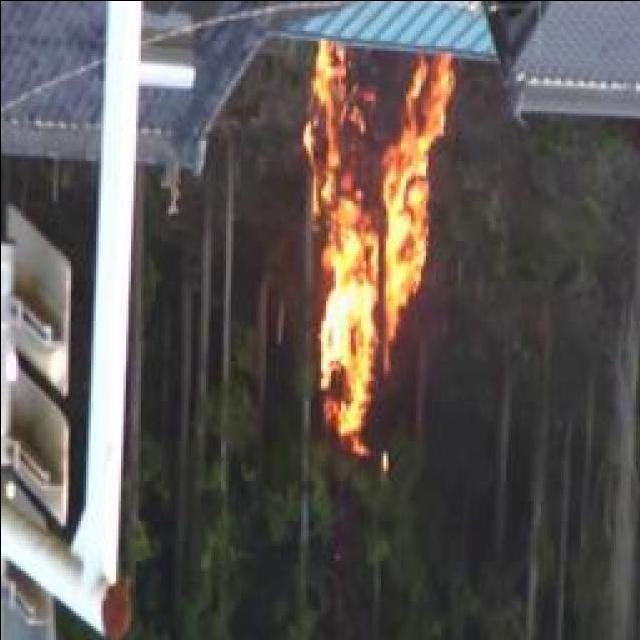Fire: (301, 32, 448, 438)
